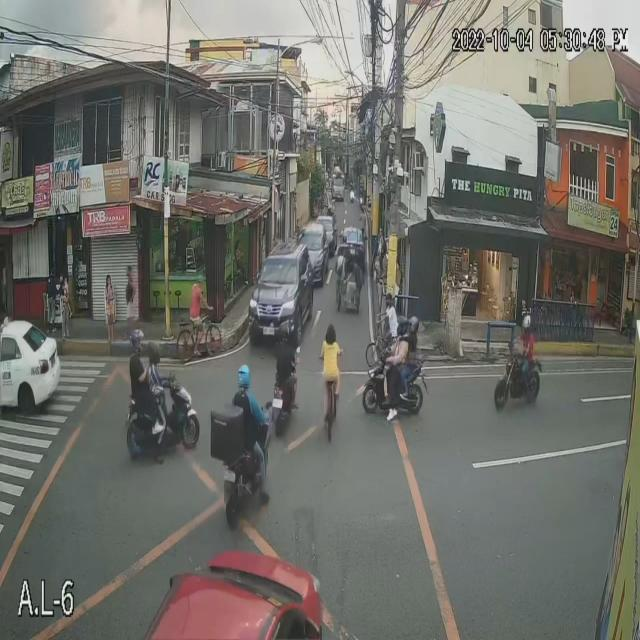full: (129, 328, 144, 354), (146, 342, 162, 365), (395, 314, 408, 337)
half: (236, 364, 252, 392), (408, 314, 420, 338)
